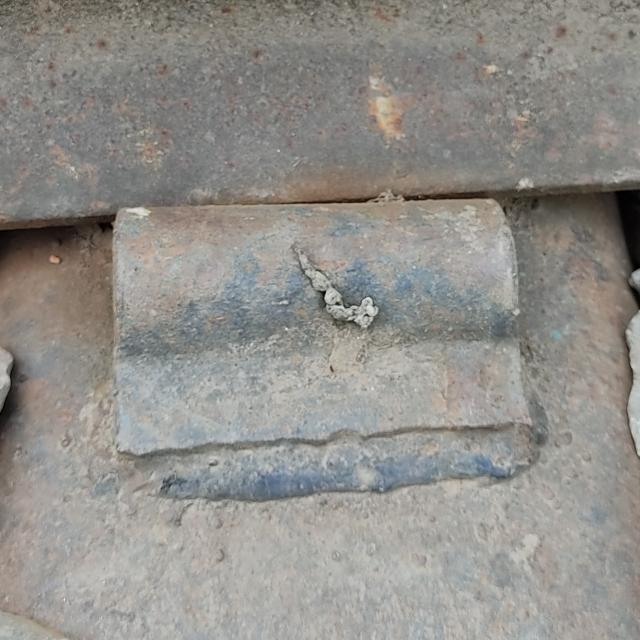track_bolt_missing: (104, 194, 527, 380)
